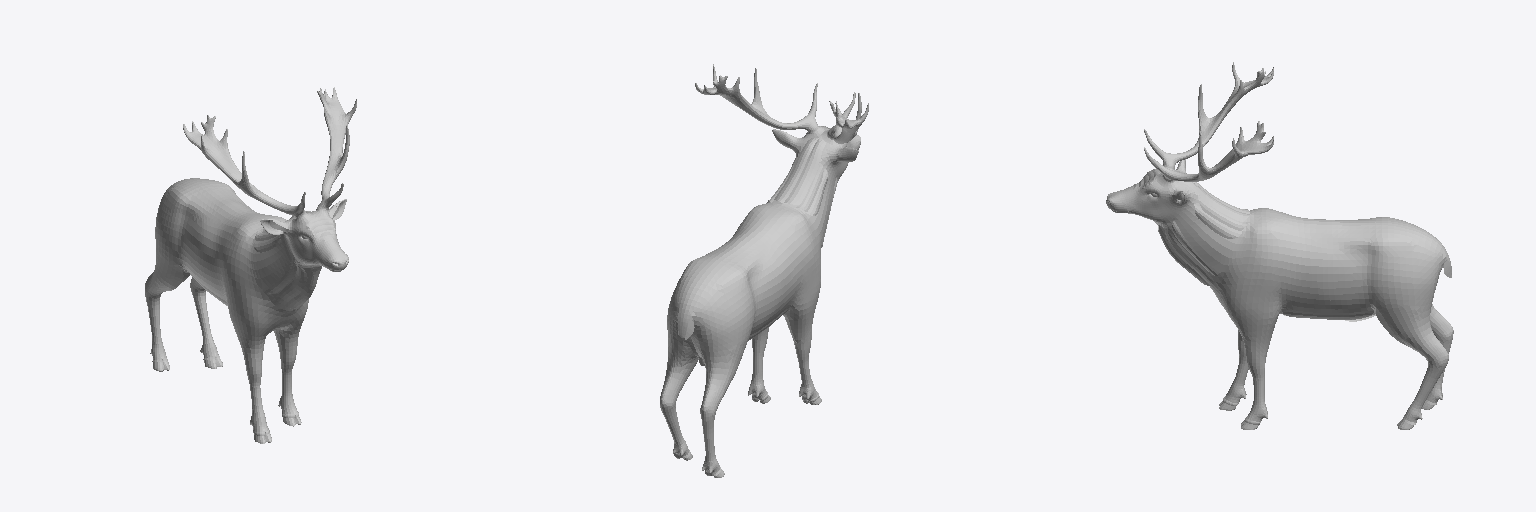
File: frame_0030_uv.obj
3 views of the same model, side by side, from view 1: azimuth 30°, elevation 25°; view 2: azimuth 150°, elevation 25°; view 3: azimuth 270°, elevation 25° (orthographic).
Parts seen in each view (by area): view 1: pMesh1; view 2: pMesh1; view 3: pMesh1.
Part boxes in pixels (bbox=[...]): pMesh1: bbox=[145, 87, 356, 443]; pMesh1: bbox=[660, 64, 868, 477]; pMesh1: bbox=[1106, 62, 1453, 429].
Size of the model in its own units: 1.05 by 2.06 by 2.02.